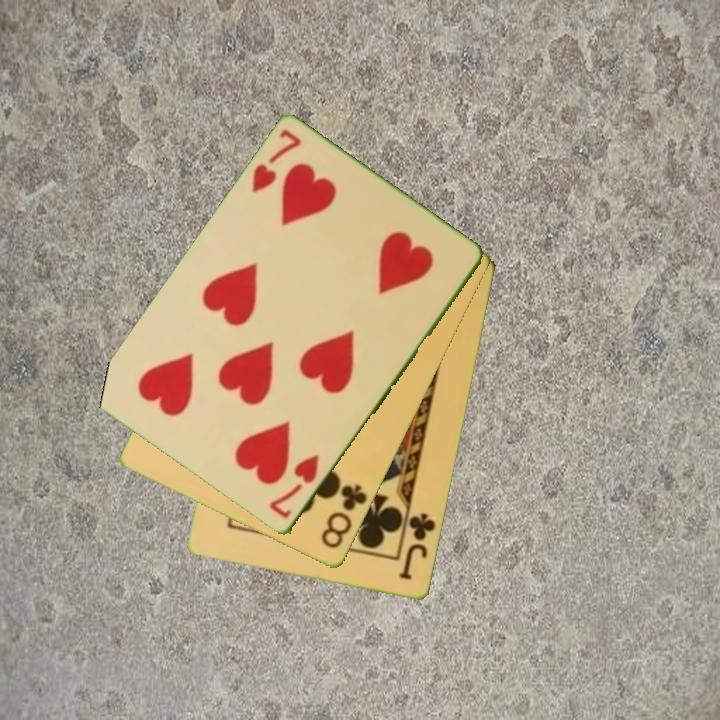7h: (265, 451, 322, 522), (248, 126, 305, 197)
8c: (317, 481, 370, 552)
Jc: (396, 510, 439, 584)
